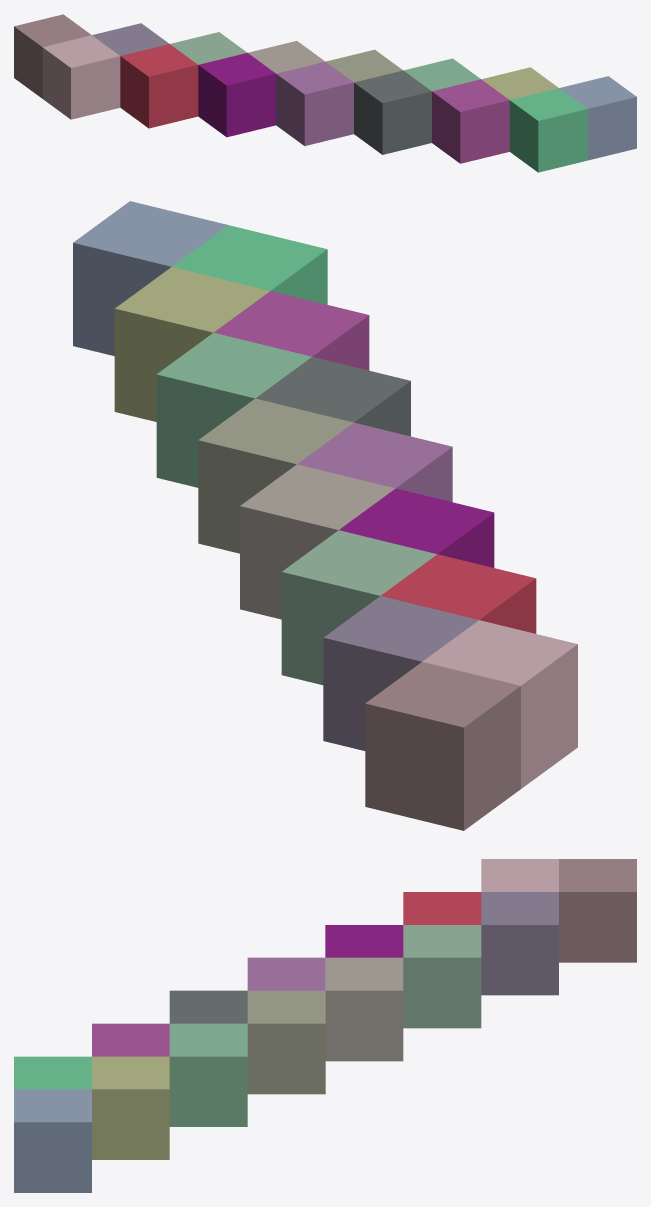
3 views of the same model, one above another, from view 1: azimuth 30°, elevation 25°; view 2: azimuth 150°, elevation 25°; view 3: azimuth 270°, elevation 25° (orthographic). The views are drawn at different scales.
Parts seen in each view (by area): view 1: voxel_lod_3; view 2: voxel_lod_3; view 3: voxel_lod_3.
Part boxes in pixels (left/top/right/bottom): voxel_lod_3: left=14, top=14, right=636, bottom=172; voxel_lod_3: left=73, top=201, right=577, bottom=830; voxel_lod_3: left=14, top=859, right=636, bottom=1192.
Bounding box in the file's own units: 24 × 3 × 24.
